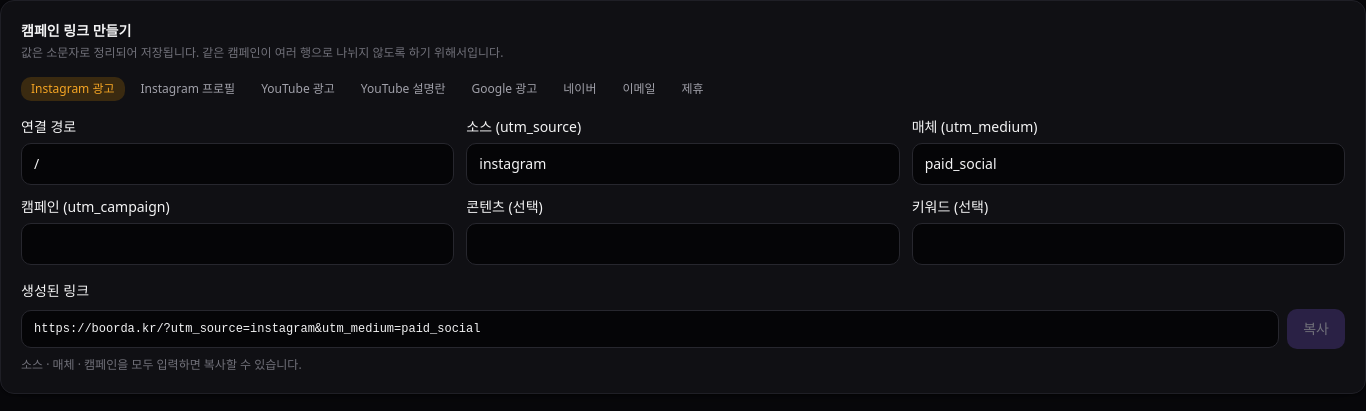
Test case: campaign link builder › enables copying once the required fields are filled
The width and height of the screenshot is (1366, 411).
Type "august_launch" into the field labelled "캠페인 (utm_campaign)" at (238,244), box [21, 223, 454, 265]
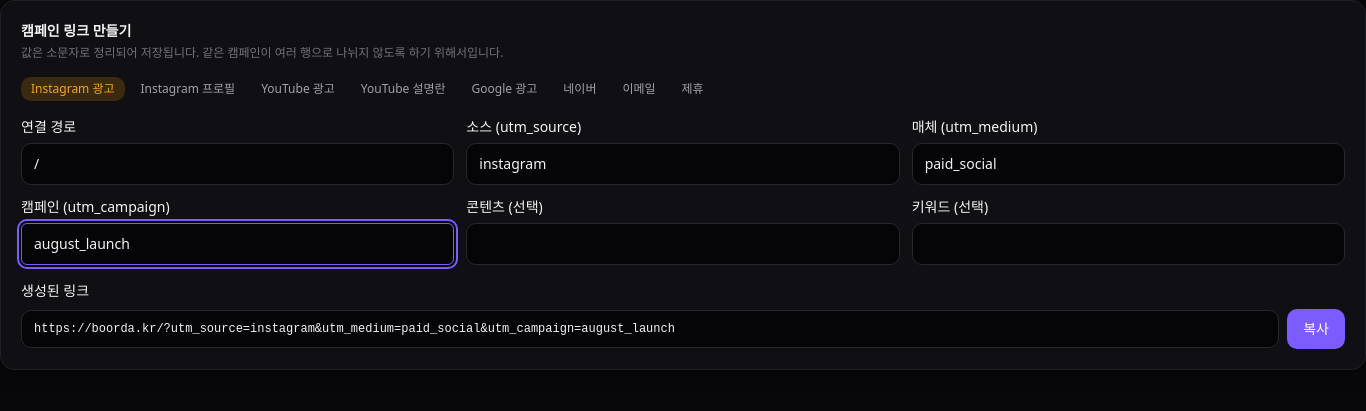
expect the button "복사" is enabled: met, box [1287, 309, 1345, 349]
